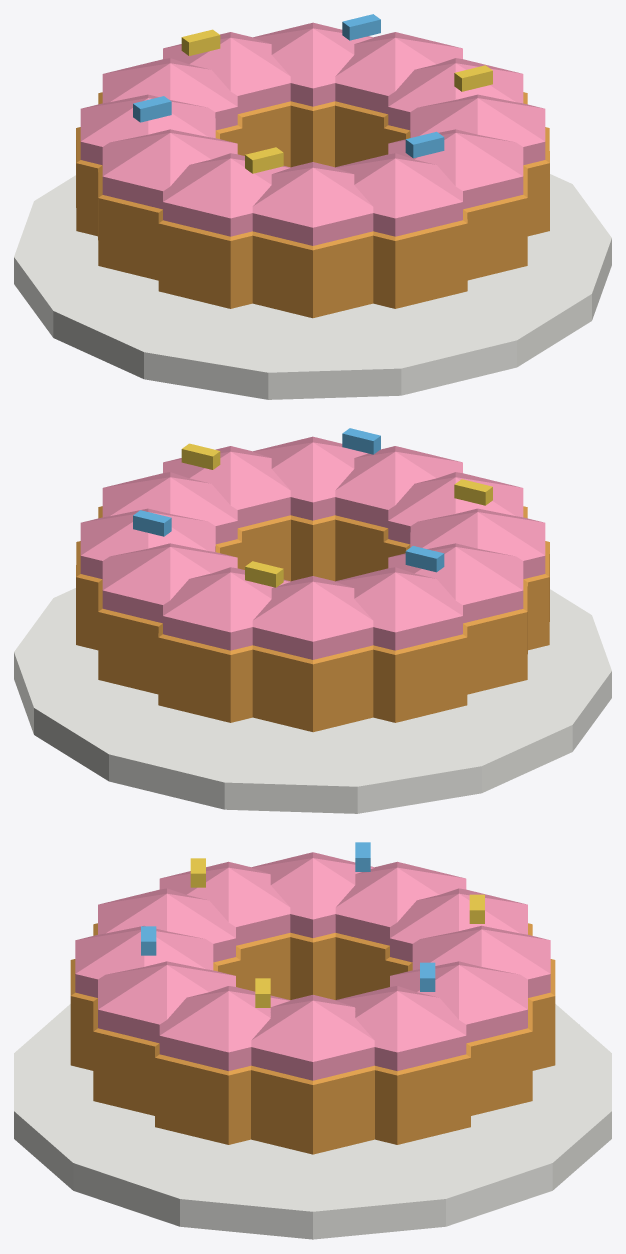
File: donut.obj
3 renders of one model, top to bottom at view 1: azimuth 30°, elevation 25°; view 2: azimuth 150°, elevation 25°; view 3: azimuth 270°, elevation 25°, orthographic. The views are drawn at different scales.
Parts seen in each view (by area): view 1: donut; view 2: donut; view 3: donut.
Part boxes in pixels (x1=…): donut: x1=14, y1=14, x2=611, y2=399; donut: x1=14, y1=428, x2=611, y2=813; donut: x1=14, y1=842, x2=611, y2=1239.
Size of the model in its own units: 0.2 by 0.069 by 0.195.
